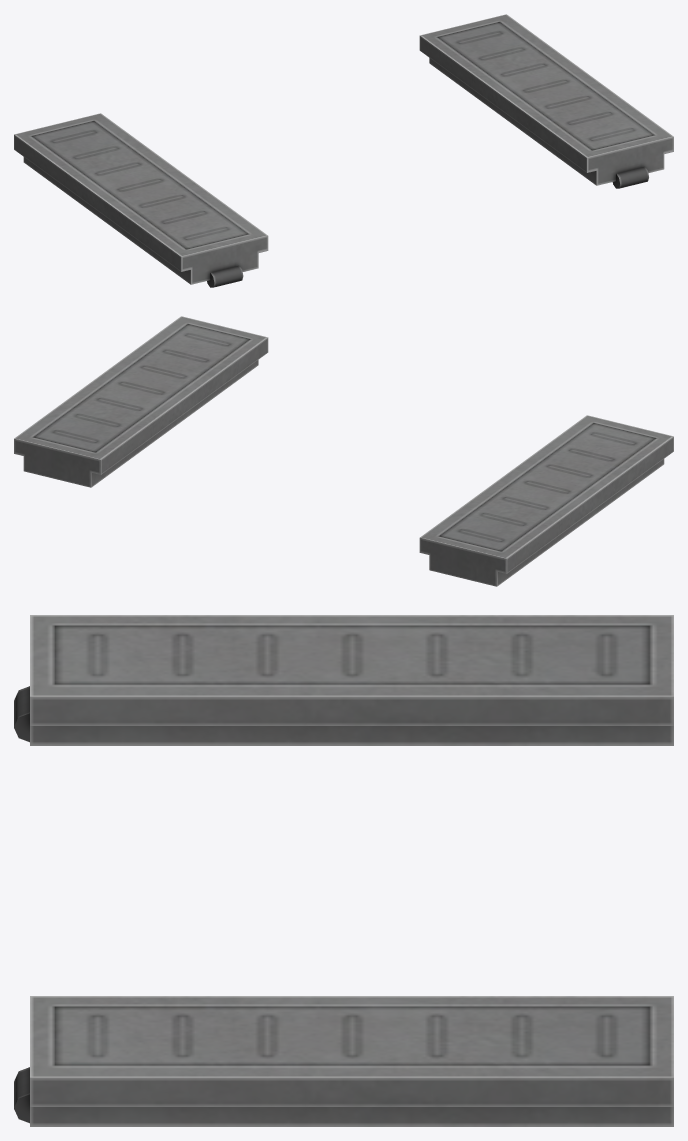
Rendered from rover_arm2.obj.
The picture shows the model from 3 angles, top to bottom: view 1: azimuth 30°, elevation 25°; view 2: azimuth 150°, elevation 25°; view 3: azimuth 270°, elevation 25°; orthographic projection. The views are drawn at different scales.
Parts seen in each view (by area): view 1: 1; view 2: 1; view 3: 1.
Boxes of the visible parts, bbox=[...] form: 1: bbox=[14, 14, 673, 287]; 1: bbox=[14, 316, 673, 586]; 1: bbox=[14, 615, 673, 1126].
Size of the model in its own units: 1.27 by 0.0938 by 0.7688.
Materials: 1 (1 with a texture image).
